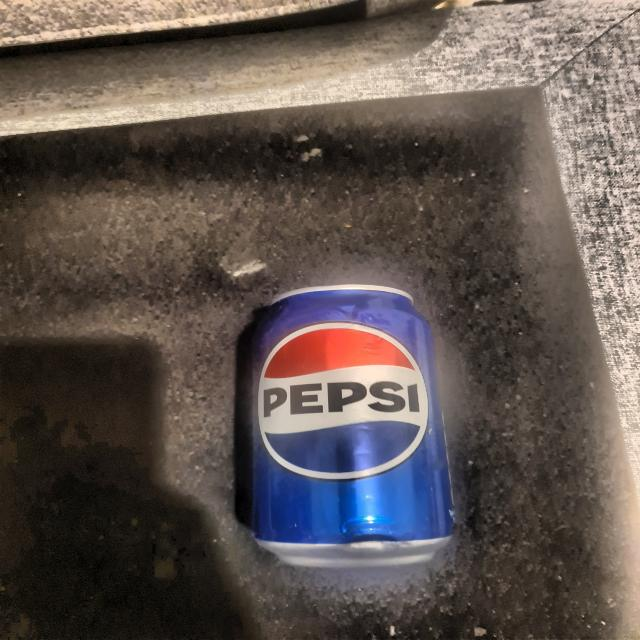pepsi-can: (242, 291, 459, 568)
